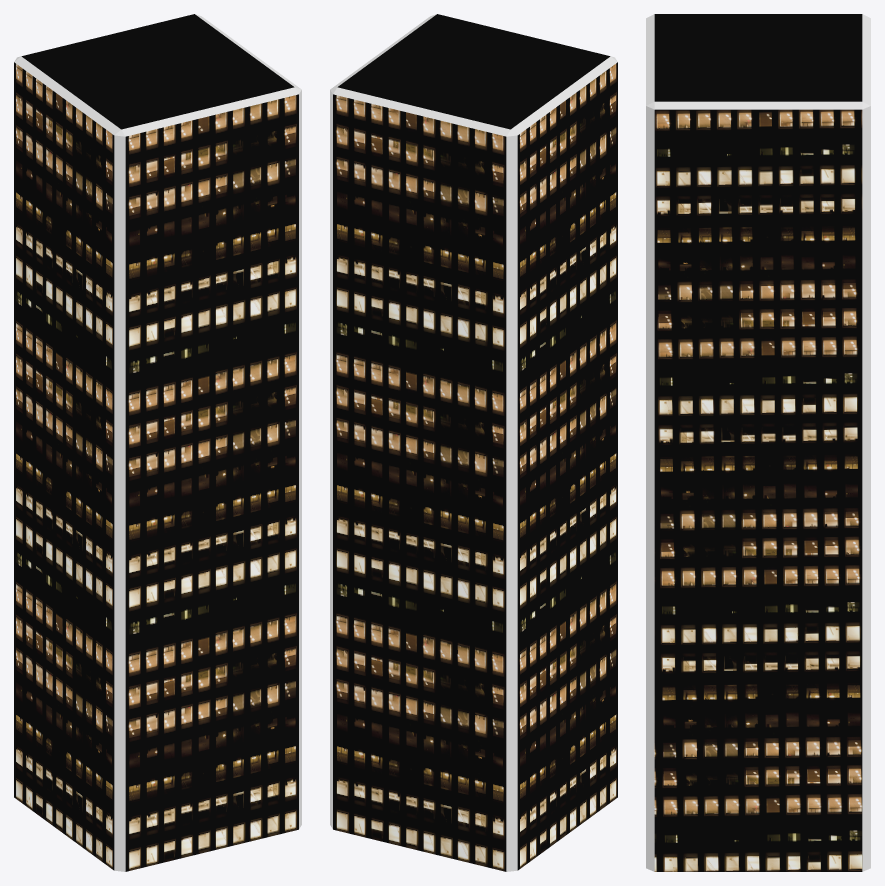
Rendered from meta_building.glb.
3 renders of one model, left to right at view 1: azimuth 30°, elevation 25°; view 2: azimuth 150°, elevation 25°; view 3: azimuth 270°, elevation 25°, orthographic. The views are drawn at different scales.
Visible parts, largest first — view 1: building; view 2: building; view 3: building.
Part boxes in pixels (x1,y1,x2,y2): building: (14, 14, 301, 871); building: (330, 14, 617, 871); building: (646, 14, 870, 871).
Bounding box in the file's own units: 3.67 × 13.82 × 3.67.
Materials: 3 (2 with a texture image).
